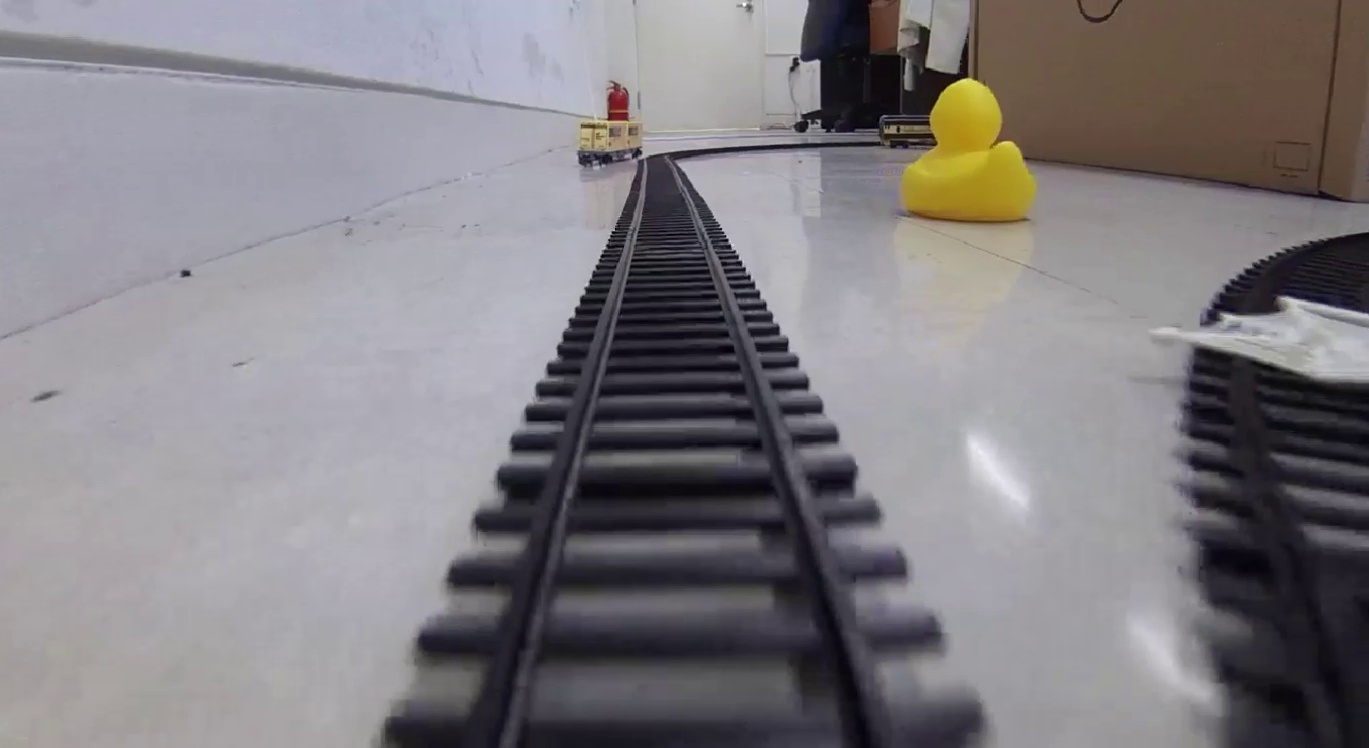web: (1151, 291, 1369, 382)
